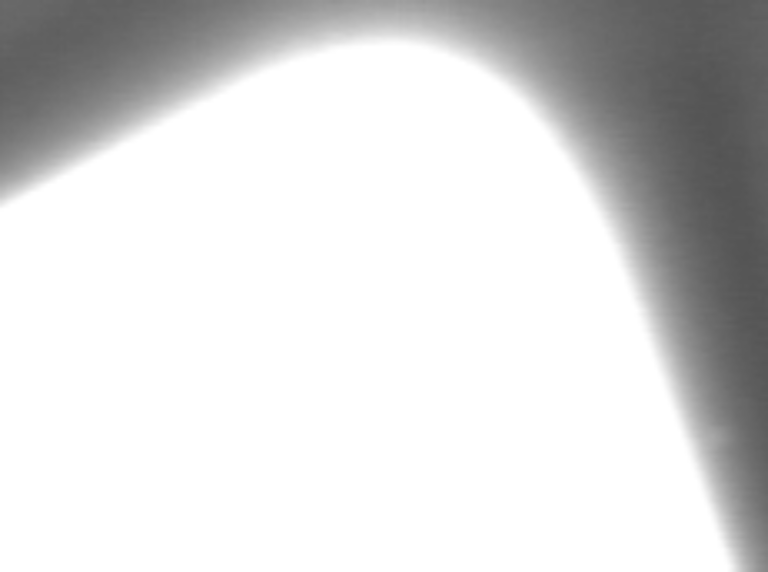defect: (702, 426, 738, 467)
